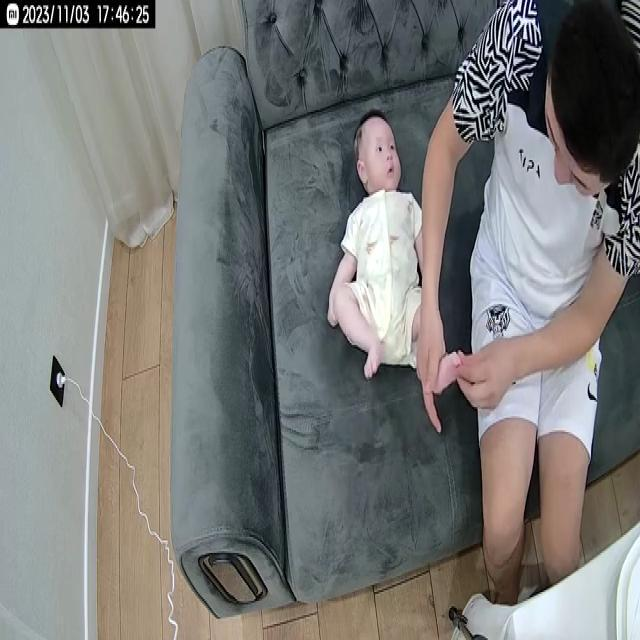baby: (326, 104, 462, 398)
